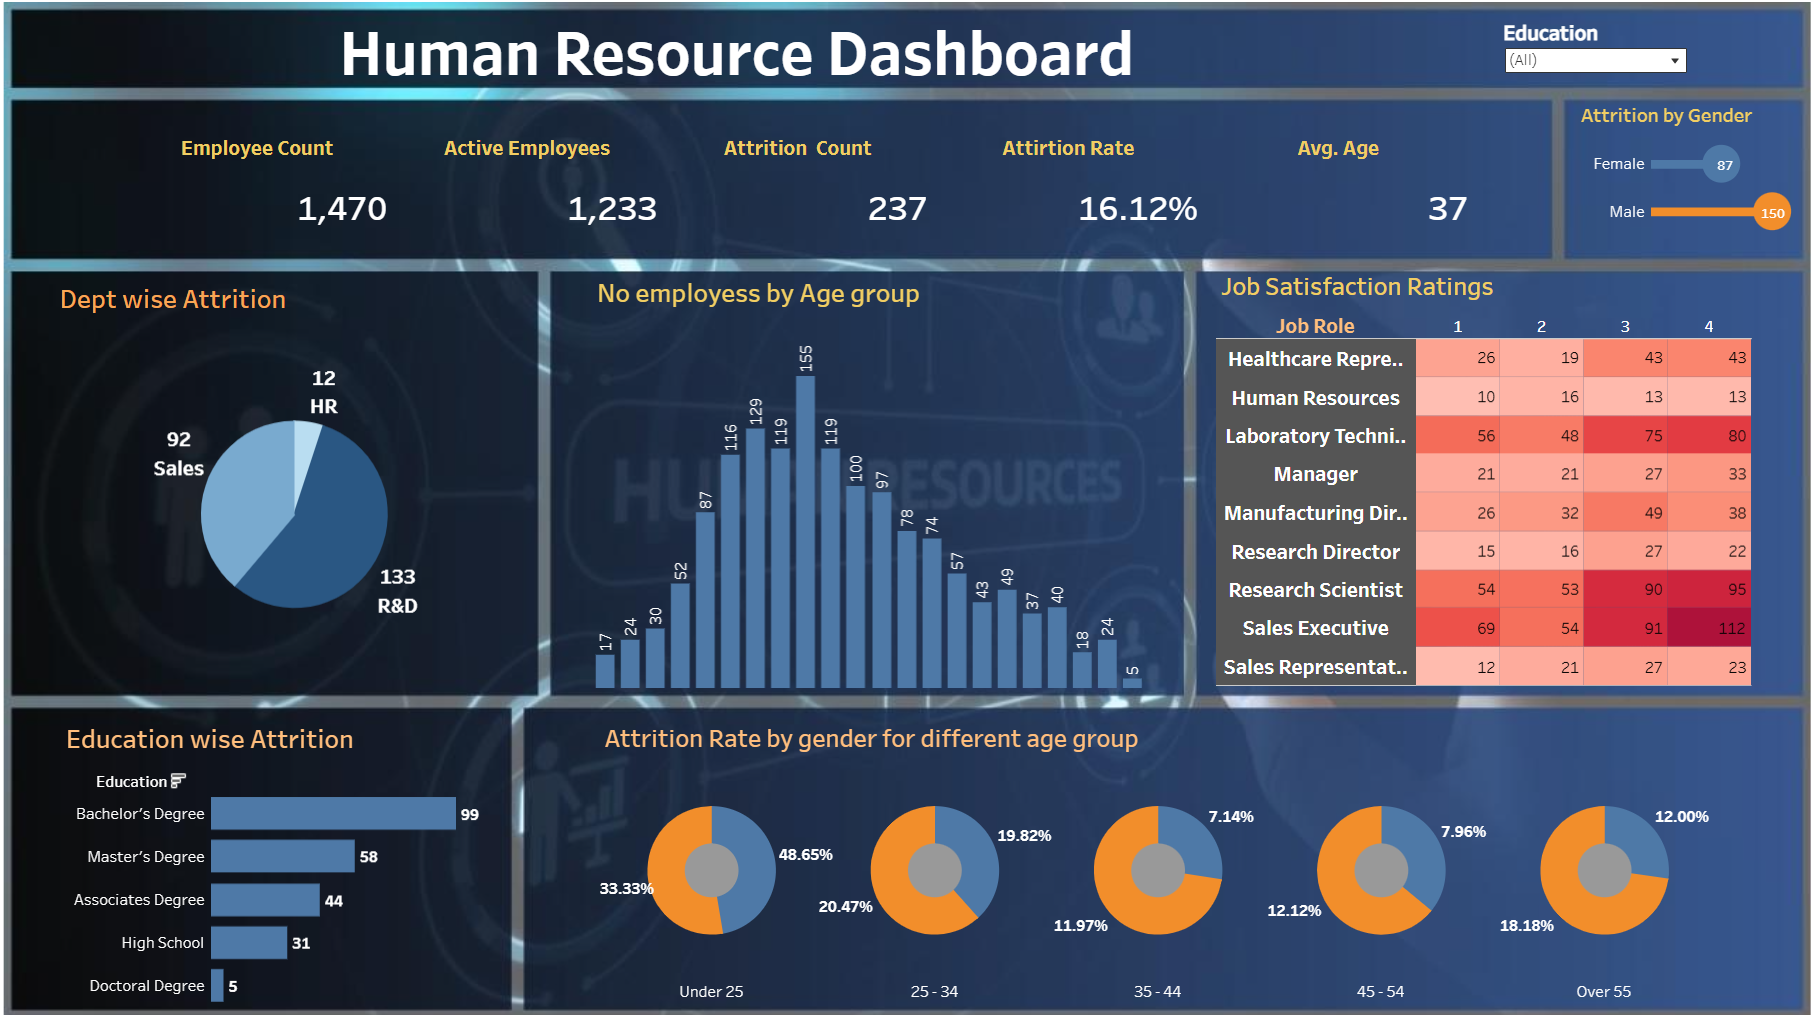

Layout of this report page (visuals, bound fields, positions):
{"tool":"tableau","page":{"name":"HR Dashboard","canvas":[1000,1000],"units":"permille","ordinal":0},"visuals":[{"type":"image","param":"Image/WhatsApp Image 2024-12-13 at 9.46.57 AM.jpeg","box":[4.8,10,990.3,980]},{"type":"text","box":[204.6,28.7,562.5,64.9]},{"type":"filter","title":"Education wise Attrition","param":"[federated.1macp3a1yvdz9w16v1w1m1yfy13t].[none:Education:nk]","box":[810.5,30,96.6,66.2]},{"type":"worksheet","title":"Sheet 8","mark":"Automatic","rows":["Gender"],"cols":["Calculation_377457968389517312","Calculation_377457968389517312"],"box":[848.5,101.1,127.3,169.8]},{"type":"worksheet","title":"KPI","mark":"Automatic","box":[91.1,117.4,703.7,136.1]},{"type":"worksheet","title":"Job Satisfaction Ratings","mark":"Square","rows":["Job Role"],"cols":["Job Satisfaction"],"box":[660.8,262.2,279.4,405.7]},{"type":"worksheet","title":"No employess by Age group ","mark":"Bar","rows":["Employee Count"],"cols":["Age (bin)"],"box":[336.2,267.2,287.9,403.2]},{"type":"worksheet","title":"Dept wise Attrition","mark":"Pie","box":[56.1,273.4,249.2,408.2]},{"type":"worksheet","title":"Education wise Attrition","mark":"Automatic","rows":["Education"],"cols":["Calculation_377457968389517312"],"box":[59.1,694.1,228.1,279.7]},{"type":"worksheet","title":"Attrition Rate by gender for different age group","mark":"Pie","rows":["Calculation_377457968407683077","Calculation_377457968407683077"],"cols":["CF_age band"],"box":[339.8,694.1,582.4,275.9]}]}

Visuals, with their boxes on the dashboard's canvas, which has no fixed pixel size, in thousandths of its width and height (x1, y1, x2, y2). These are canvas units, not pixel positions in the 1811x1015 screenshot, which may show the page scaled, cropped or inside an application window:
image: select_region(5, 10, 995, 990)
text: select_region(205, 29, 767, 94)
"Education wise Attrition" filter: select_region(810, 30, 907, 96)
"Sheet 8" worksheet: select_region(848, 101, 976, 271)
"KPI" worksheet: select_region(91, 117, 795, 254)
"Job Satisfaction Ratings" worksheet (Square marks): select_region(661, 262, 940, 668)
"No employess by Age group " worksheet (Bar marks): select_region(336, 267, 624, 670)
"Dept wise Attrition" worksheet (Pie marks): select_region(56, 273, 305, 682)
"Education wise Attrition" worksheet: select_region(59, 694, 287, 974)
"Attrition Rate by gender for different age group" worksheet (Pie marks): select_region(340, 694, 922, 970)
